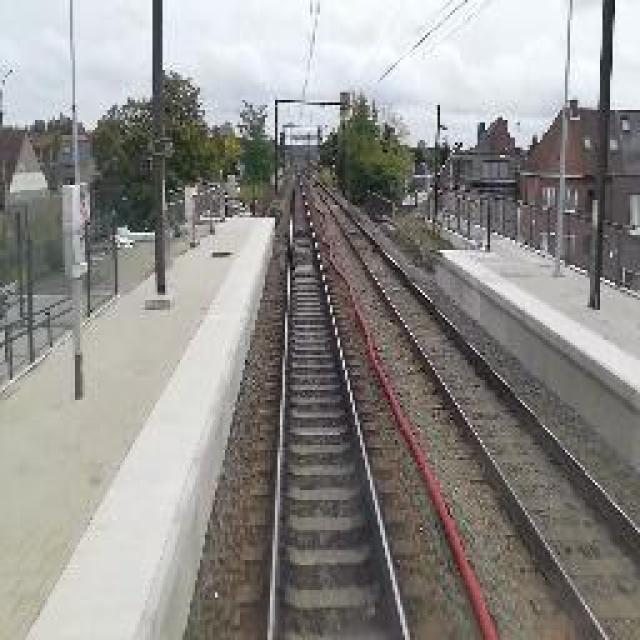rail: (234, 163, 439, 640)
